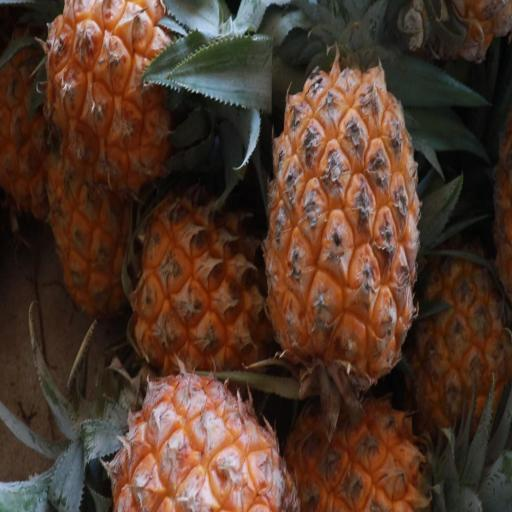Pineapple - v8 v1: (261, 57, 423, 421), (30, 0, 242, 203), (124, 172, 280, 390), (93, 361, 310, 512), (400, 213, 512, 446)
